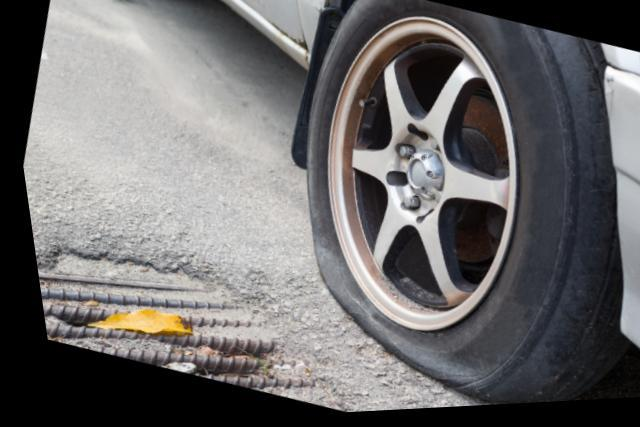tire flat: (301, 0, 617, 409)
